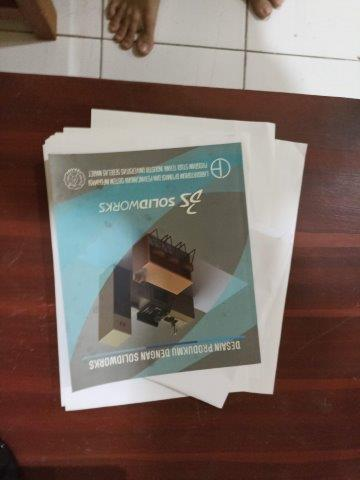kertas: (41, 108, 308, 412)
